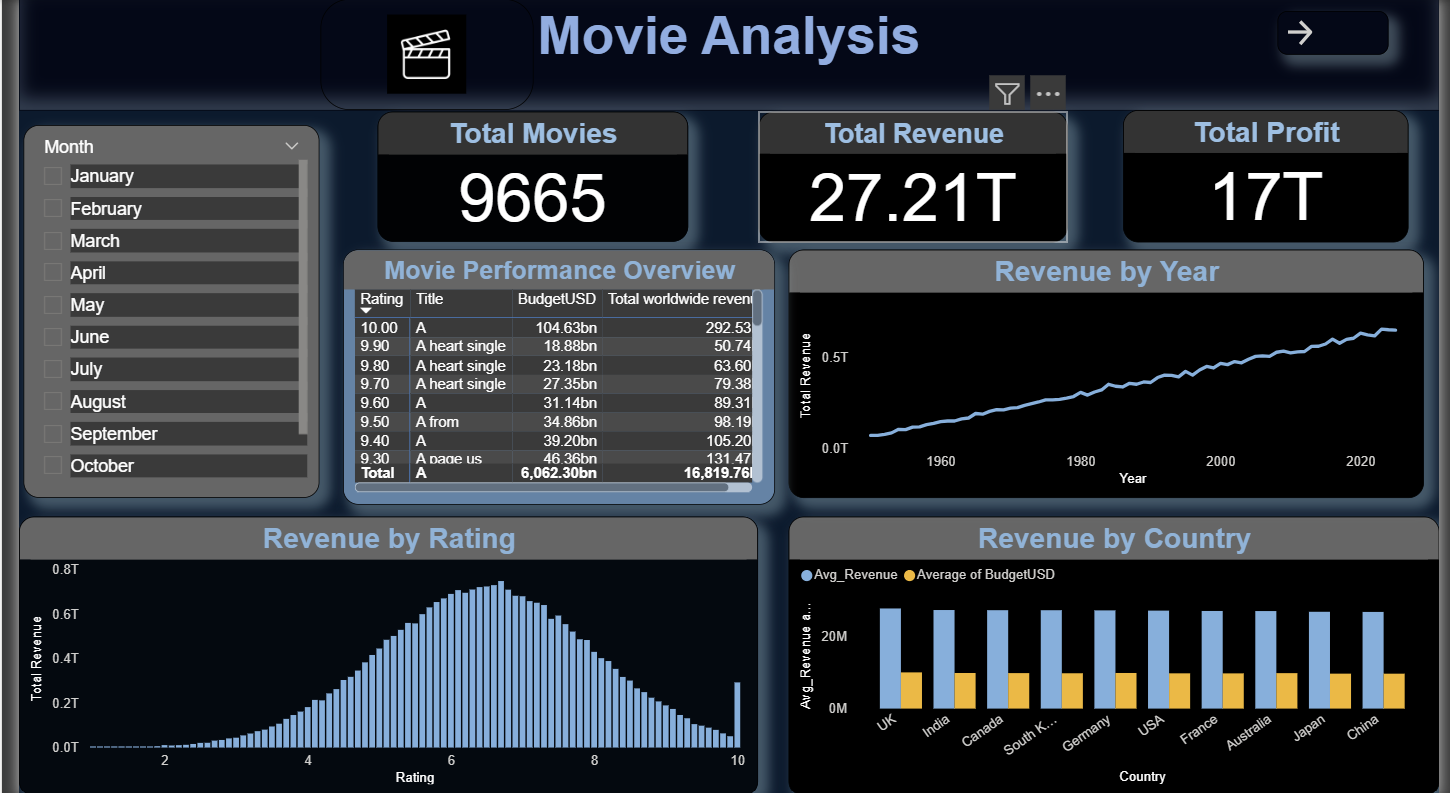

The dashboard page shown, as its layout file describes it:
{"tool":"powerbi","page":{"name":"Movie Analysis","canvas":[1280,720],"ordinal":0},"visuals":[{"type":"textbox","box":[0,0,1280,100.6],"z":0},{"type":"card","title":"Total Movies","fields":{"Values":["movies_dataset.Total Movies"]},"box":[323.1,101.4,279.8,117.6],"z":1000},{"type":"card","title":"Total Revenue","fields":{"Values":["movies_dataset.Total Revenue"]},"box":[666.3,101.5,278.6,118.1],"z":2000},{"type":"card","title":"Total Profit","fields":{"Values":["movies_dataset.Total Profit"]},"box":[994.8,99.9,257.4,119.6],"z":3000},{"type":"clusteredColumnChart","title":"Revenue by Country","fields":{"Y":["movies_dataset.Avg_Revenue","Avg(movies_dataset.BudgetUSD)"],"Category":["movies_dataset.Country"]},"box":[693.5,466.4,586,252.9],"z":4000},{"type":"lineChart","title":"Revenue by Year","fields":{"Y":["movies_dataset.Total Revenue"],"Category":["movies_dataset.ReleaseDate.Variation.Date Hierarchy.Year"]},"box":[693.5,225.6,572.4,224.1],"z":5000},{"type":"slicer","fields":{"Values":["movies_dataset.ReleaseDate.Variation.Date Hierarchy.Month"]},"box":[4.5,113.6,266.5,336.2],"z":6000},{"type":"pivotTable","title":"Movie Performance Overview","fields":{"Values":["Min(movies_dataset.Title)","Sum(movies_dataset.BudgetUSD)","Sum(movies_dataset.Total worldwide revenue)"],"Rows":["movies_dataset.Rating"]},"box":[292.2,225.6,389.2,230.2],"z":7000},{"type":"columnChart","title":"Revenue by Rating","fields":{"Category":["movies_dataset.Rating"],"Y":["movies_dataset.Total Revenue"]},"box":[0,466.4,666.3,252.9],"z":8000},{"type":"actionButton","box":[1134.1,10.6,99.9,39.4],"z":9000},{"type":"image","box":[271,0,192.3,99.9],"z":10000}]}

Visuals, with their boxes in screenshot pixels (x1, y1, x2, y2), scaled from the page's 1280x720 canvas onto the 1450x793 screenshot:
textbox: rect(0, 0, 1449, 111)
"Total Movies" card: rect(366, 112, 683, 241)
"Total Revenue" card: rect(755, 112, 1070, 242)
"Total Profit" card: rect(1127, 110, 1419, 242)
"Revenue by Country" clusteredColumnChart: rect(786, 514, 1449, 792)
"Revenue by Year" lineChart: rect(786, 248, 1434, 495)
slicer - movies_dataset.ReleaseDate.Variation.Date Hierarchy.Month: rect(5, 125, 307, 495)
"Movie Performance Overview" pivotTable: rect(331, 248, 772, 502)
"Revenue by Rating" columnChart: rect(0, 514, 755, 792)
actionButton: rect(1285, 12, 1398, 55)
image: rect(307, 0, 525, 110)
